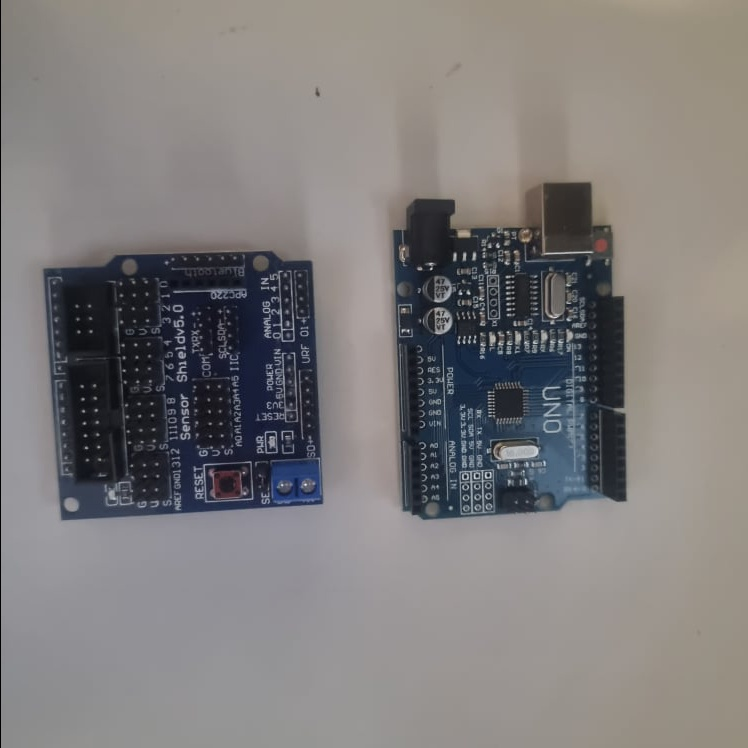5V EXPANSION: (39, 248, 326, 524)
UNO R3: (399, 182, 628, 527)
